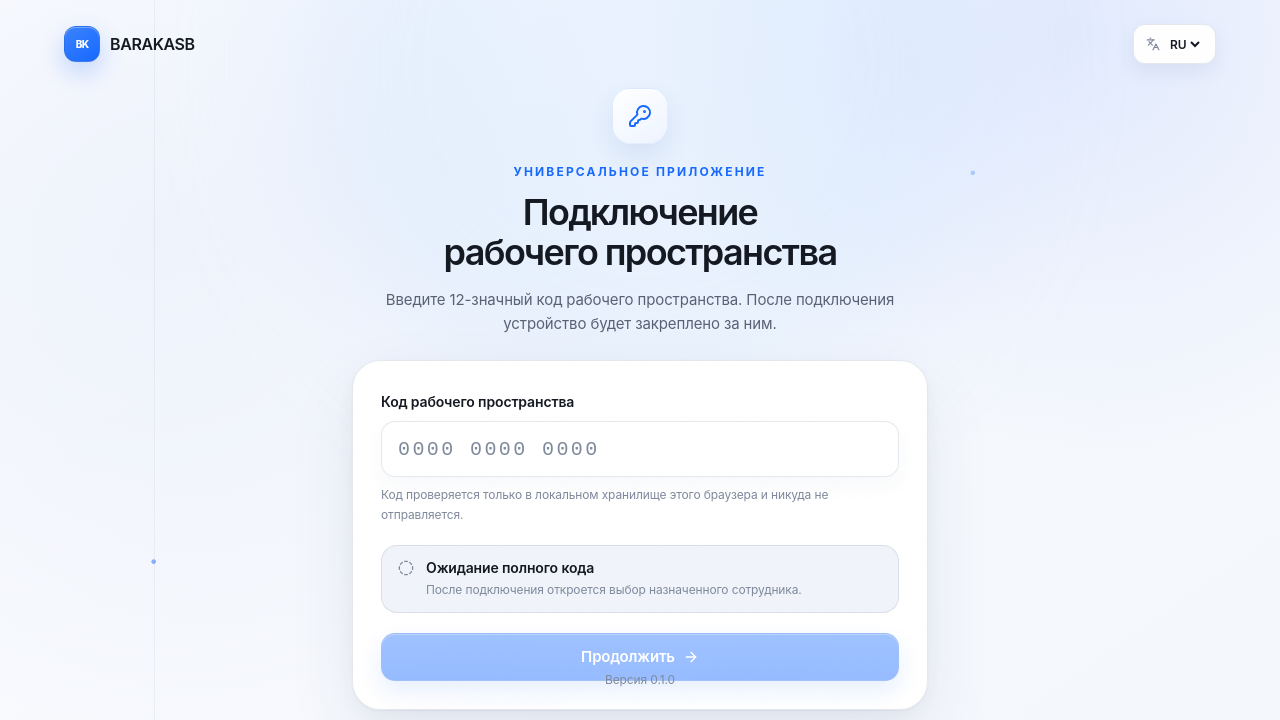
ConnectionScreen › accepts digits, removes letters, and formats exactly 12 digits
Type "12ab3456cd7890ef12" into the field labelled "Код рабочего пространства" at {"x": 640, "y": 449}, box x1=381 y1=421 x2=899 y2=477
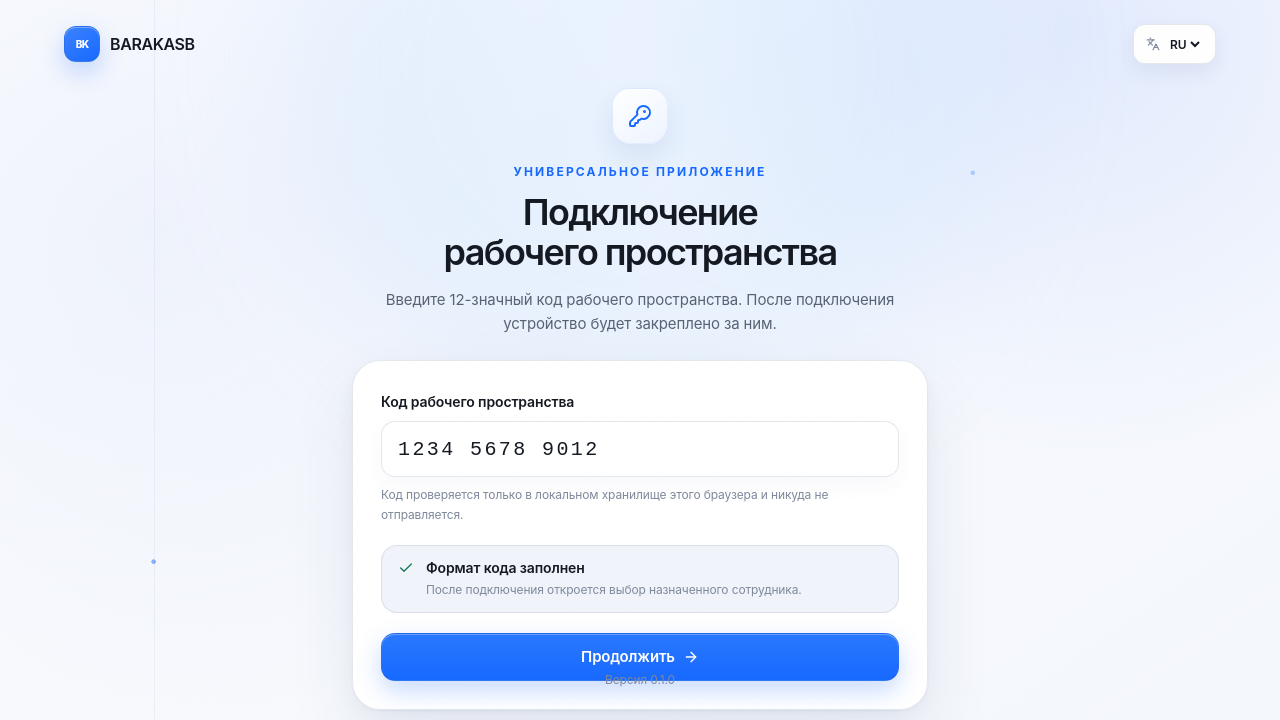
Result: the field labelled "Код рабочего пространства" holds "1234 5678 9012" at x1=381 y1=421 x2=899 y2=477
